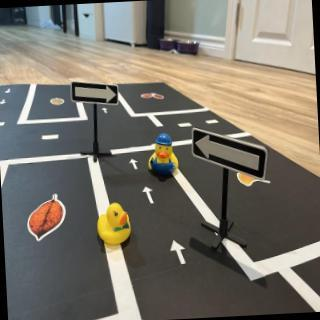duck_regular: (98, 204, 134, 248)
duck_specialty: (147, 134, 181, 184)
road_oneway: (170, 239, 189, 268), (143, 184, 159, 208), (127, 157, 139, 173), (102, 108, 112, 117), (5, 87, 14, 96), (1, 98, 8, 106)
sign_oneway_left: (192, 126, 271, 185)
sign_oneway_right: (71, 82, 120, 109)
